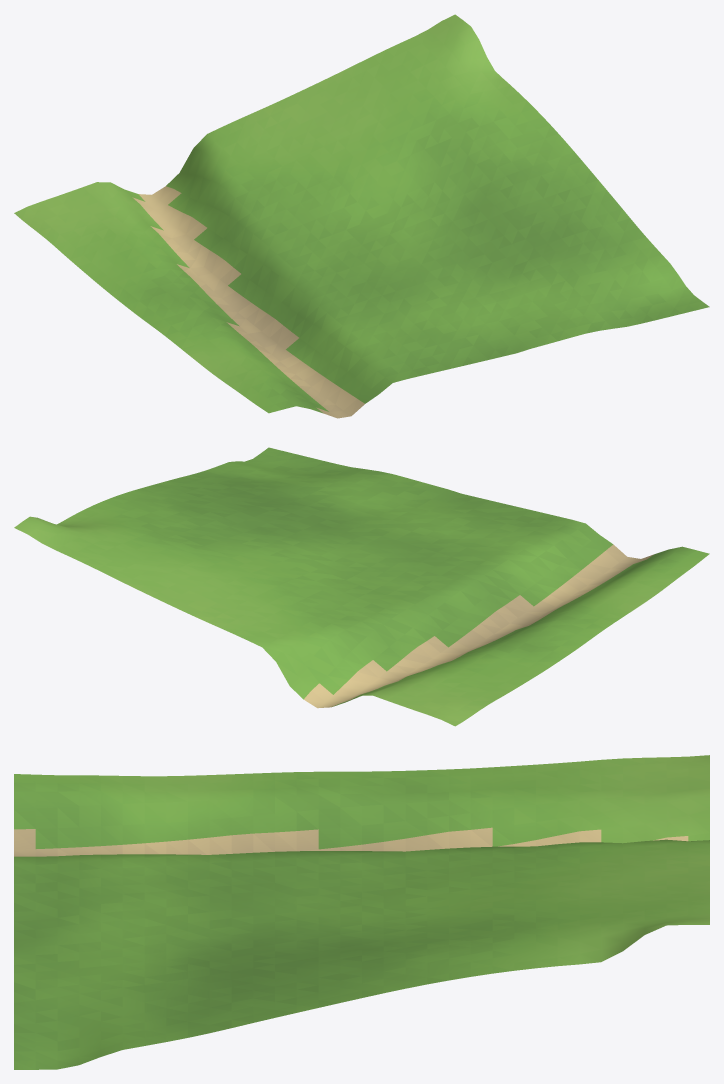
Rendered from terrain_r3_c4.glb.
3 renders of one model, top to bottom at view 1: azimuth 30°, elevation 25°; view 2: azimuth 150°, elevation 25°; view 3: azimuth 270°, elevation 25°, orthographic. The views are drawn at different scales.
Parts seen in each view (by area): view 1: terrain_r3_c4; view 2: terrain_r3_c4; view 3: terrain_r3_c4.
Boxes of the visible parts, x1,y1,x2,y2 form: terrain_r3_c4: (14, 14, 709, 418); terrain_r3_c4: (14, 447, 709, 726); terrain_r3_c4: (14, 755, 709, 1069).
Size of the model in its own units: 128 by 35.5 by 128.
1 material, 1 textured.
